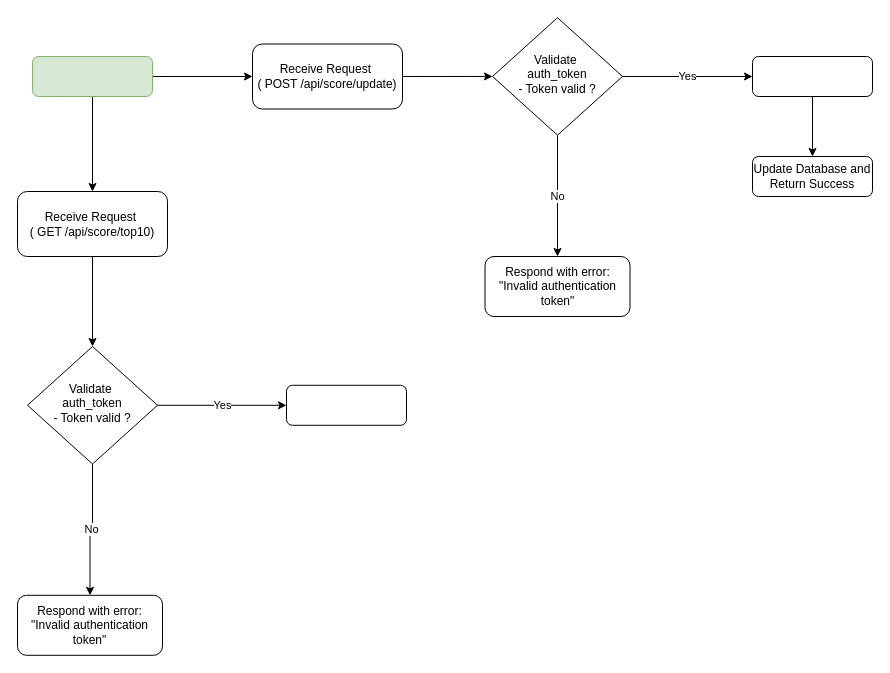
This 890x673 diagram has some shape labels left out. The shapes that lost their labels are listed below. From the top down, each one's centre as x and y in pixels, then its label:
At point (92, 76): "Start".
At point (812, 76): "Update Score - Verify Action ID".
At point (346, 404): "Return Success and Top 10 scores".
